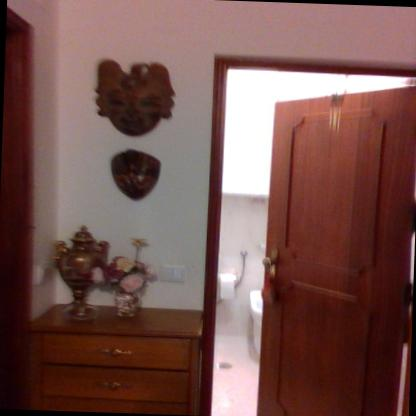semi: (191, 44, 415, 415)
